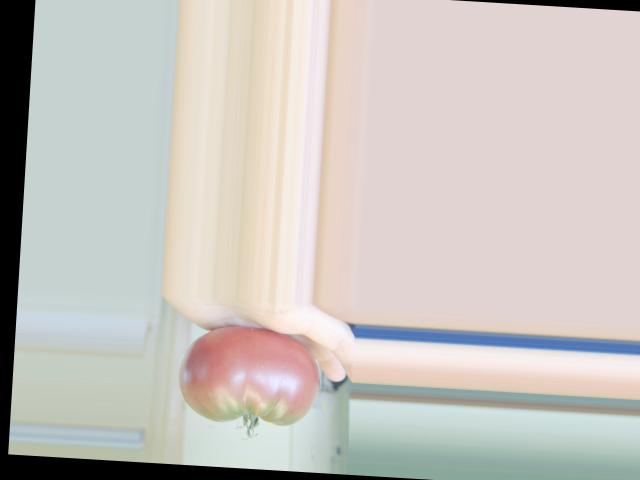tomato: (176, 322, 322, 427)
